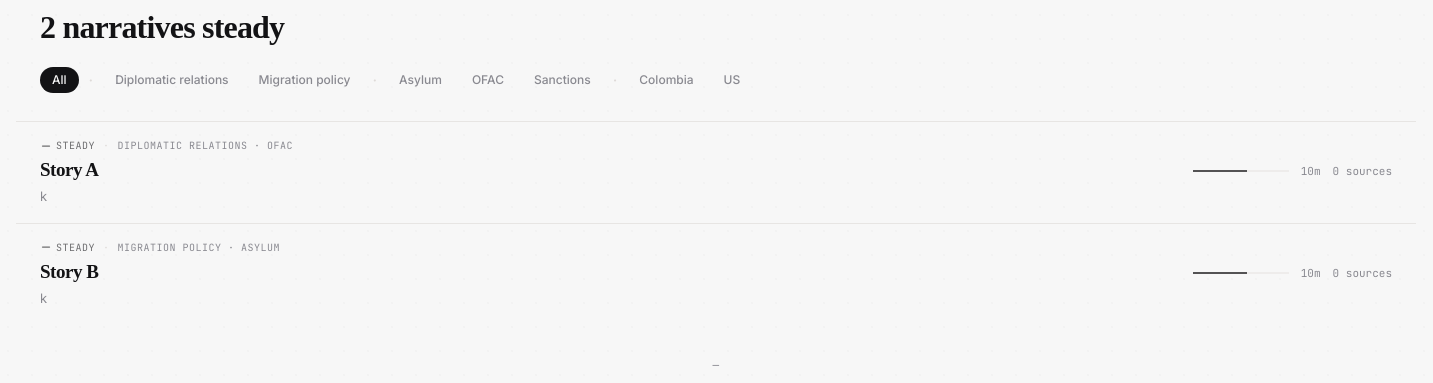
Test: Phase 6: dynamic header pills › All clears active filters and returns full feed
expect the heading "Story A" is shown: met, box [40,159,98,180]
Note: Select Migration policy → only Story B should remain visible
Click the button with test id "pill-topic-Migration policy".
click(305, 80)  # box [247,67,362,93]
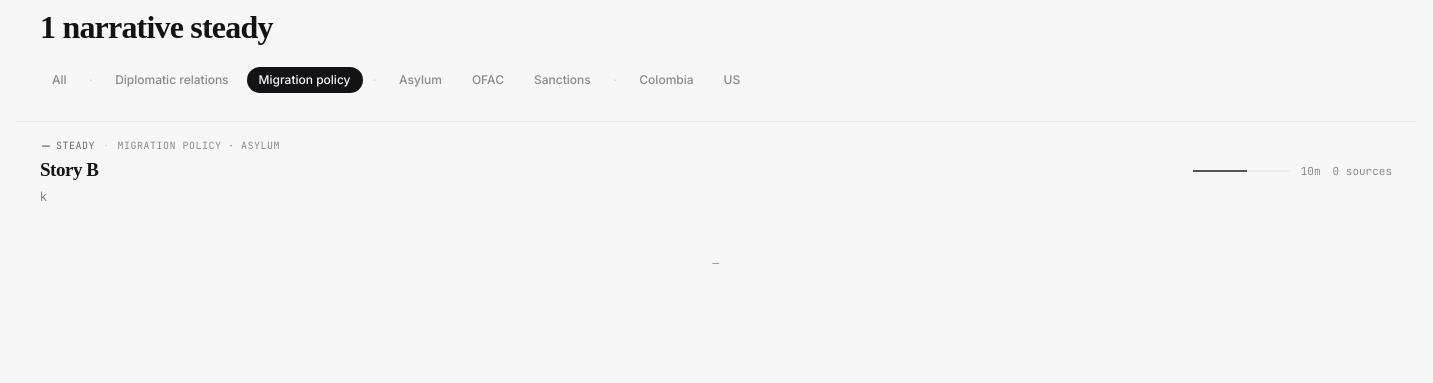
expect the heading "Story B" is shown: met, box [40,159,98,180]
expect the button "Story A" is gone: met
Note: Click All → both back
Click the button with test id "pill-all".
click(59, 80)  # box [40,67,79,93]
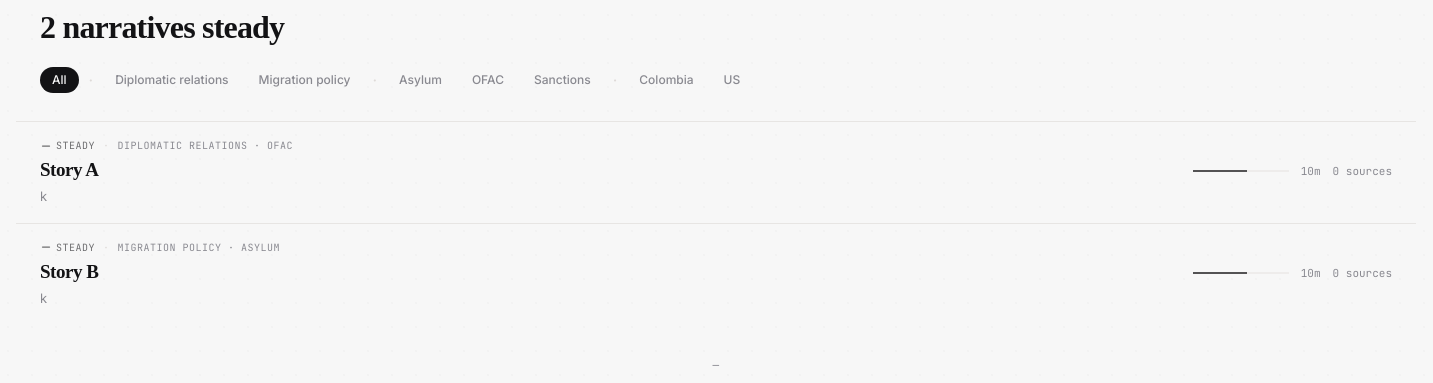
expect the heading "Story B" is shown: met, box [40,261,98,282]
expect the heading "Story A" is shown: met, box [40,159,98,180]
